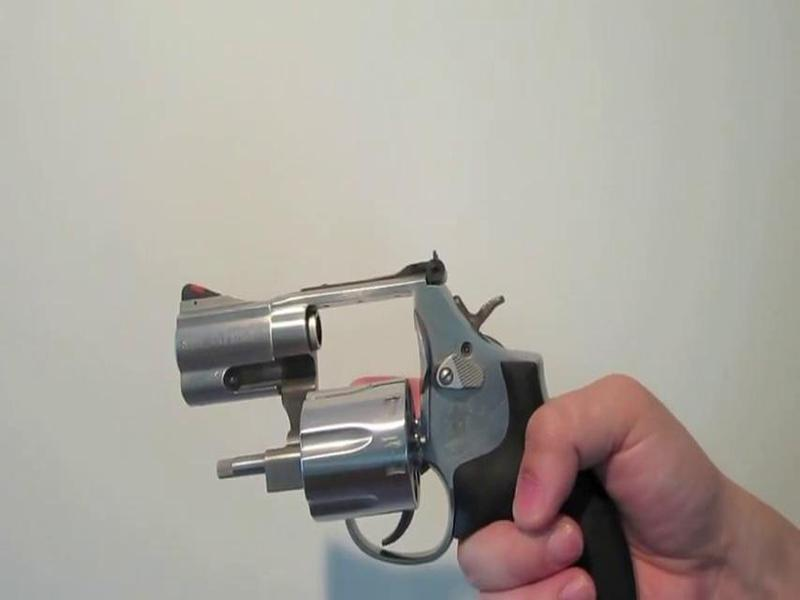Revolver: (171, 244, 641, 600)
